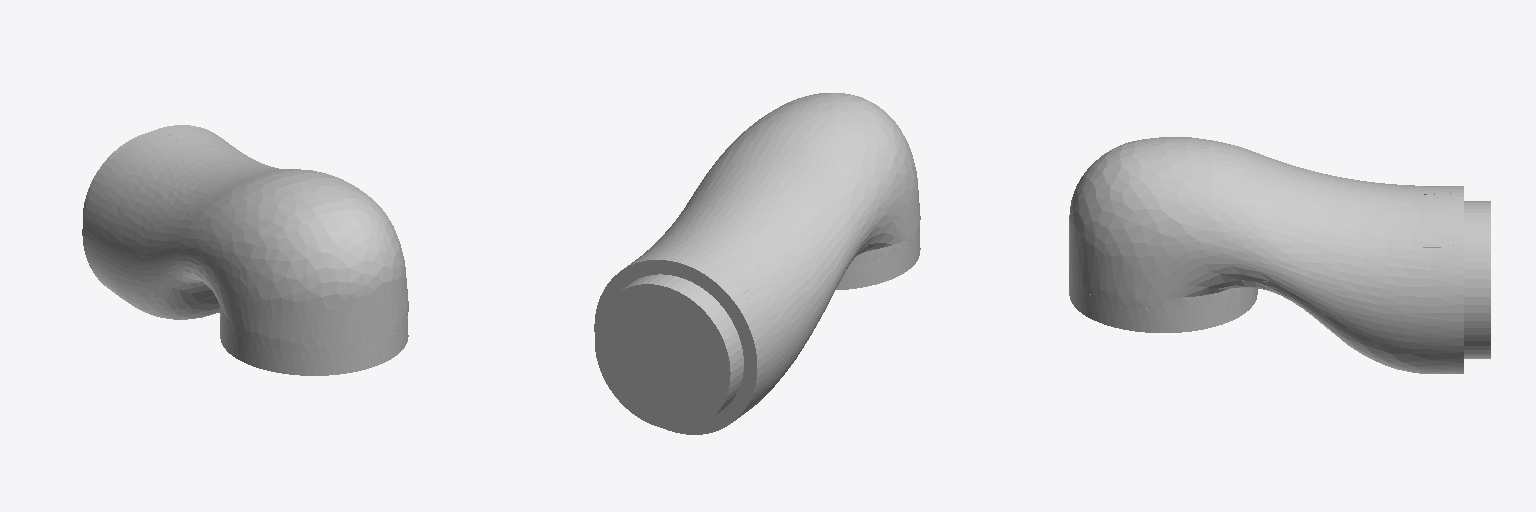
The model's file is kuka-link1.stl.obj.
3 views of the same model, side by side, from view 1: azimuth 30°, elevation 25°; view 2: azimuth 150°, elevation 25°; view 3: azimuth 270°, elevation 25° (orthographic).
Visible parts, largest first — view 1: <STL_BINARY>; view 2: <STL_BINARY>; view 3: <STL_BINARY>.
Boxes of the visible parts, x1,y1,x2,y2 form: <STL_BINARY>: [82, 125, 408, 375]; <STL_BINARY>: [594, 93, 920, 434]; <STL_BINARY>: [1069, 137, 1490, 373].
Bounding box in the file's own units: 0.12 × 0.1537 × 0.2685.